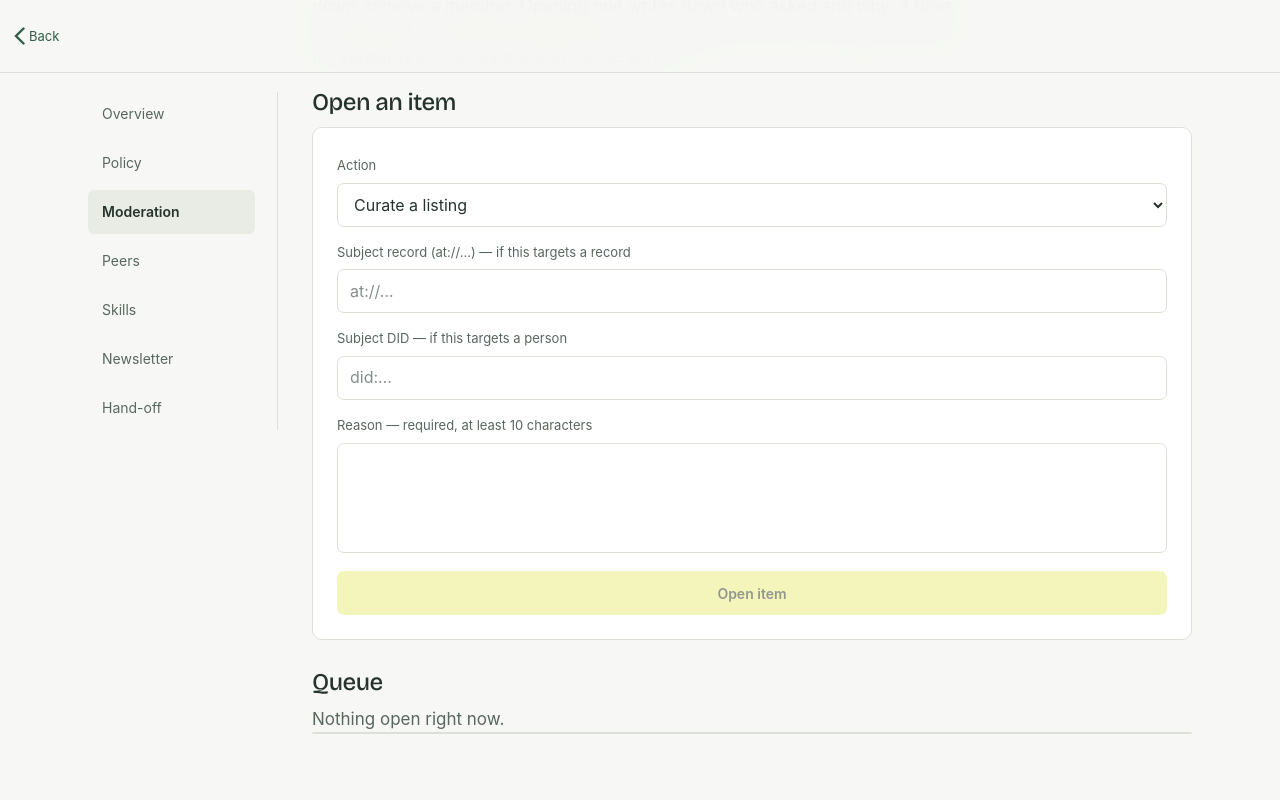
ModerationScreen › disables the propose submit button until the reason has at least 10 characters
(page scrolled)
Expected: the text "Nothing open right now." is shown, 312,709 -> 504,729
Expected: the button "Open item" is disabled, 337,571 -> 1167,615
Type "too short" into the text box labelled "Reason — required, at least 10 characters" at (752, 498), box 337,443 -> 1167,553
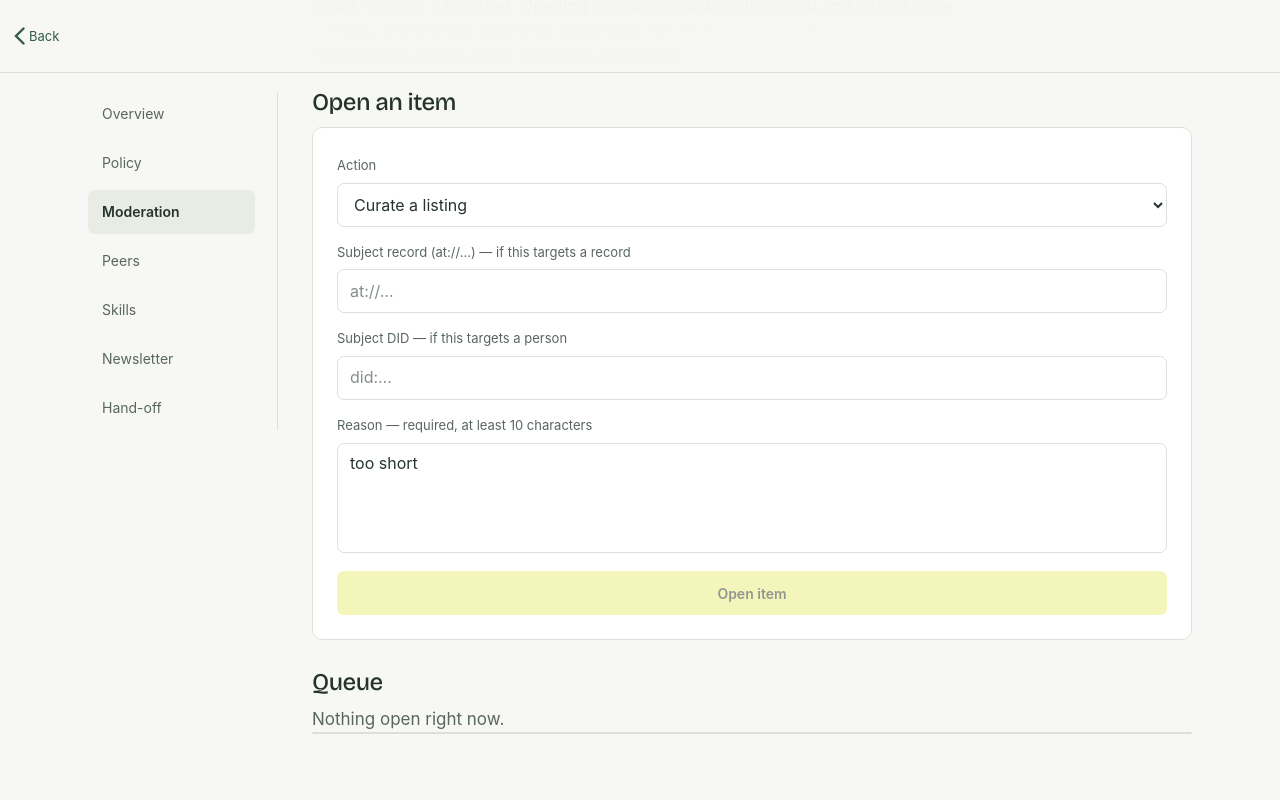
Expected: the button "Open item" is disabled, 337,571 -> 1167,615
Replace the text in the text box labelled "Reason — required, at least 10 characters" with "this reason is long enough" at (752, 498), box 337,443 -> 1167,553
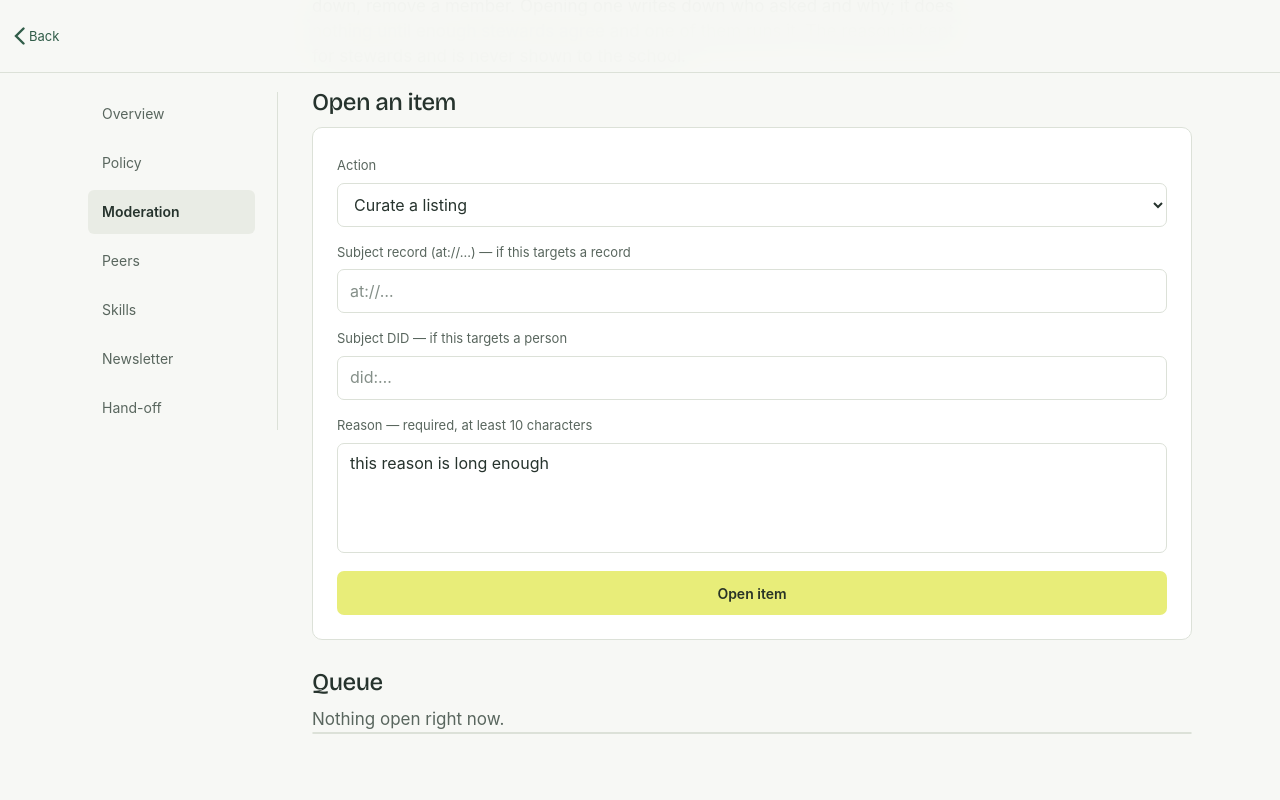
Expected: the button "Open item" is enabled, 337,571 -> 1167,615
